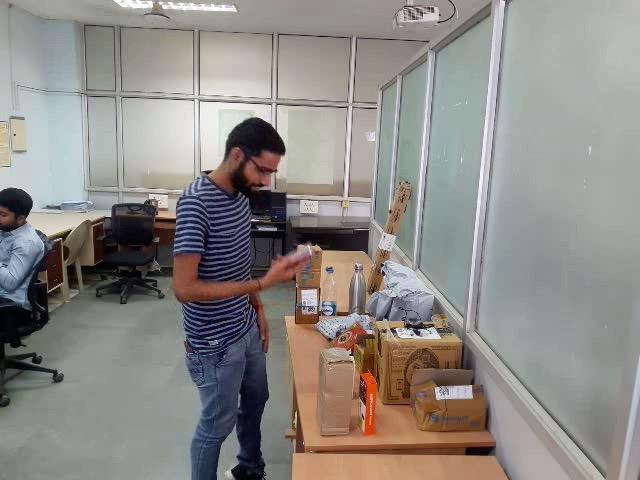Normal: (97, 89, 640, 480)
